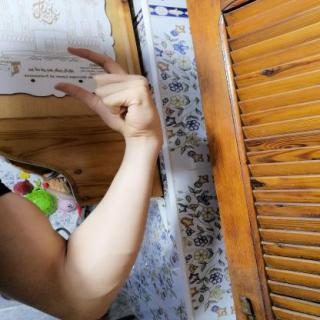DELL: (46, 40, 166, 142)
